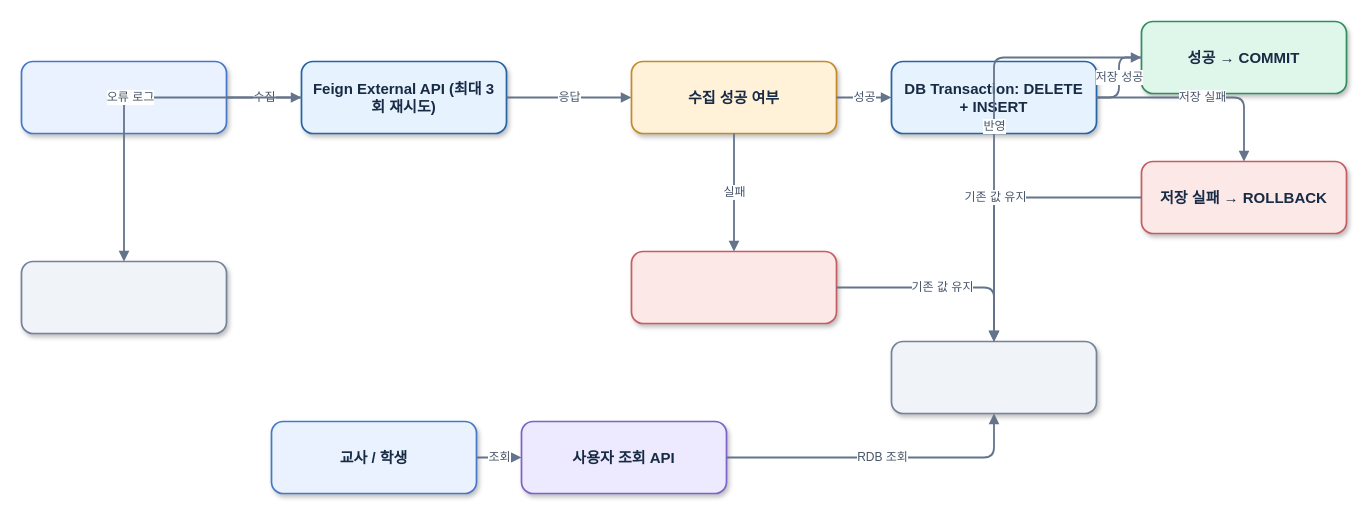
Some shapes in this 1371 by 519 pixel diagram are drawn without their labels. The centre of each missing label's shape, as x and y in pixels:
"Daily Spring Batch (당월 + 익월)" belongs at (x=124, y=98).
"EFK 로그 분석" belongs at (x=124, y=298).
"RDB: 마지막 성공 수집 데이터" belongs at (x=994, y=378).
"호출 실패 → 기존 데이터 유지" belongs at (x=734, y=288).
